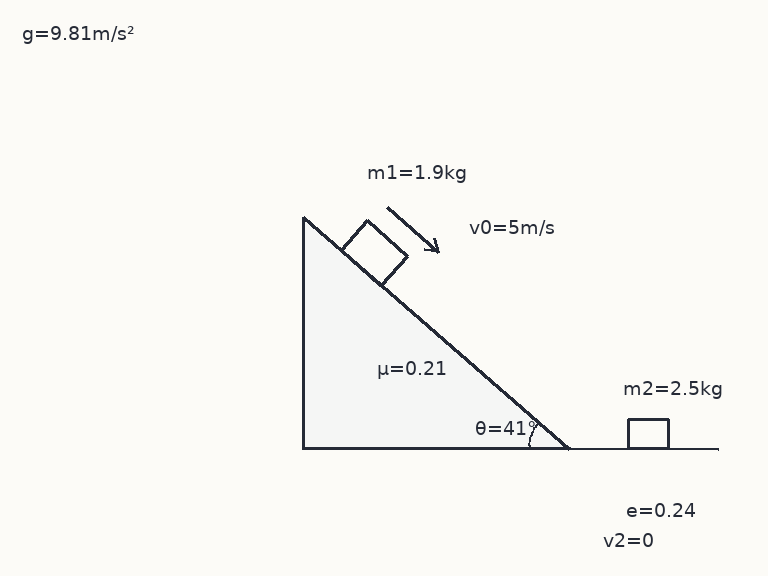block: (339, 218, 409, 287), (626, 417, 670, 450)
ramp: (301, 215, 571, 450)
